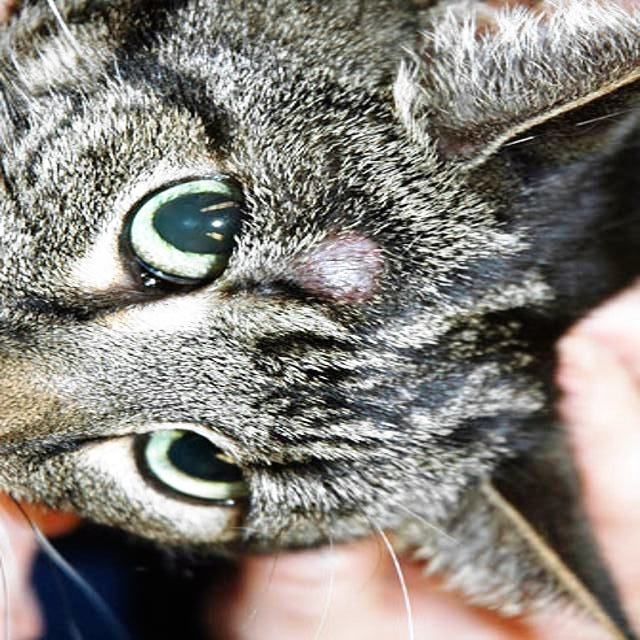lump_and_bump: (296, 233, 384, 302)
